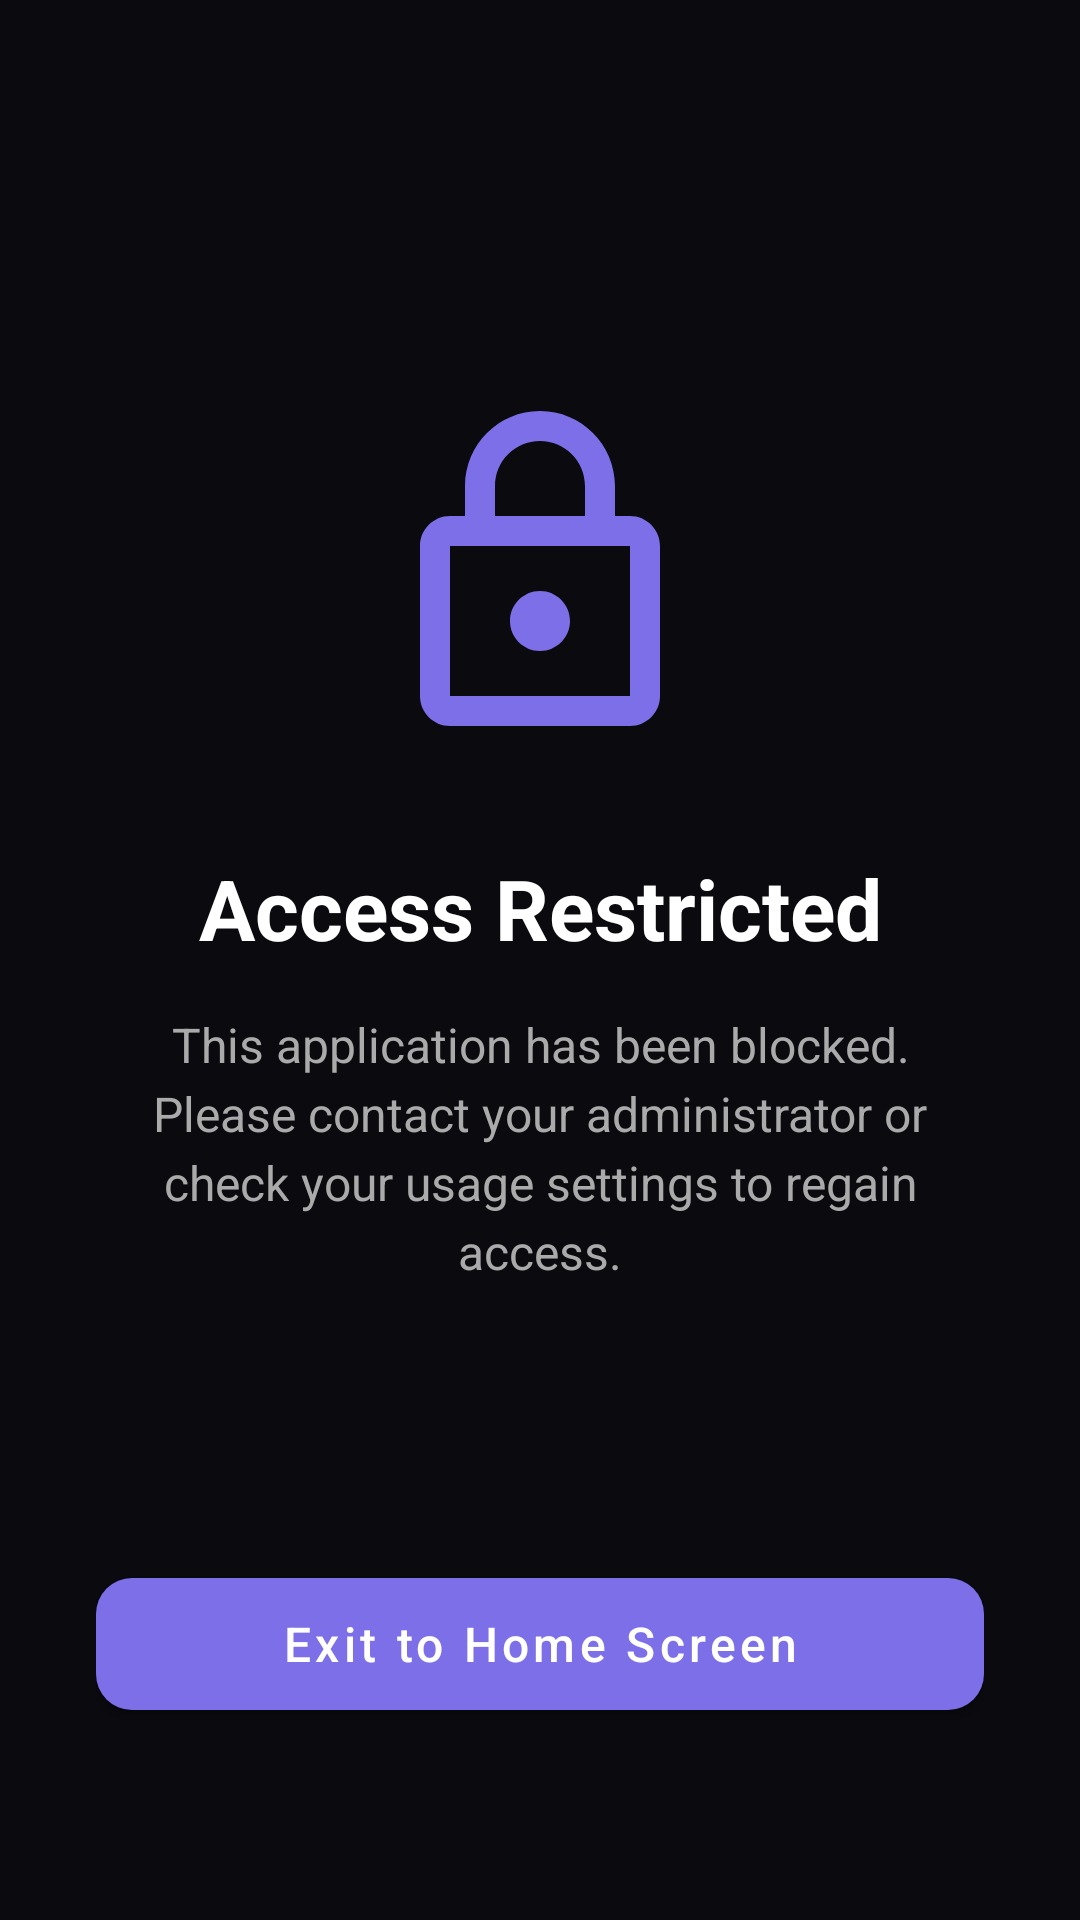

Icon bounding boxes for this 1080w x 1920h phone screenshot, format [left=x1, top=y1, right=x2, bottom=y2]:
lock closed: [left=420, top=411, right=660, bottom=726]
